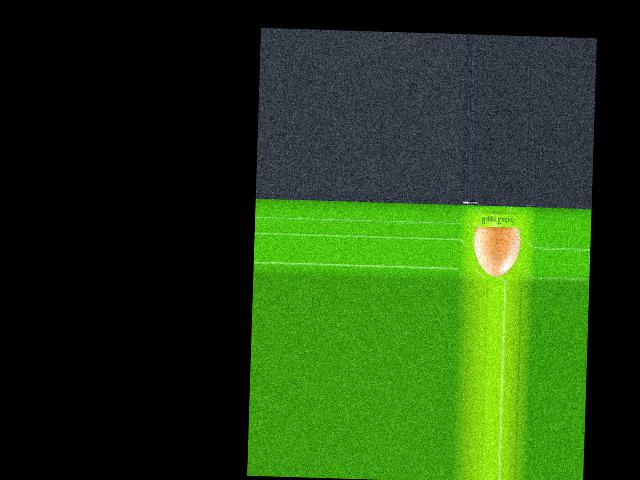egg: (473, 226, 521, 277)
